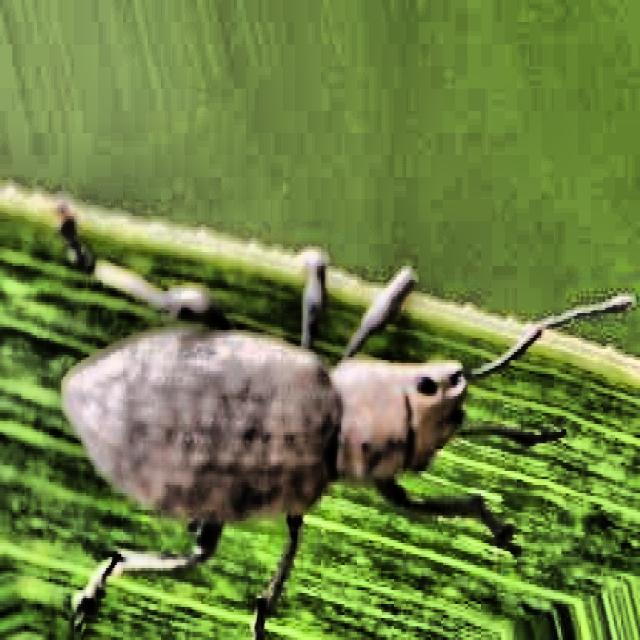Stink bug: (13, 105, 640, 640)
